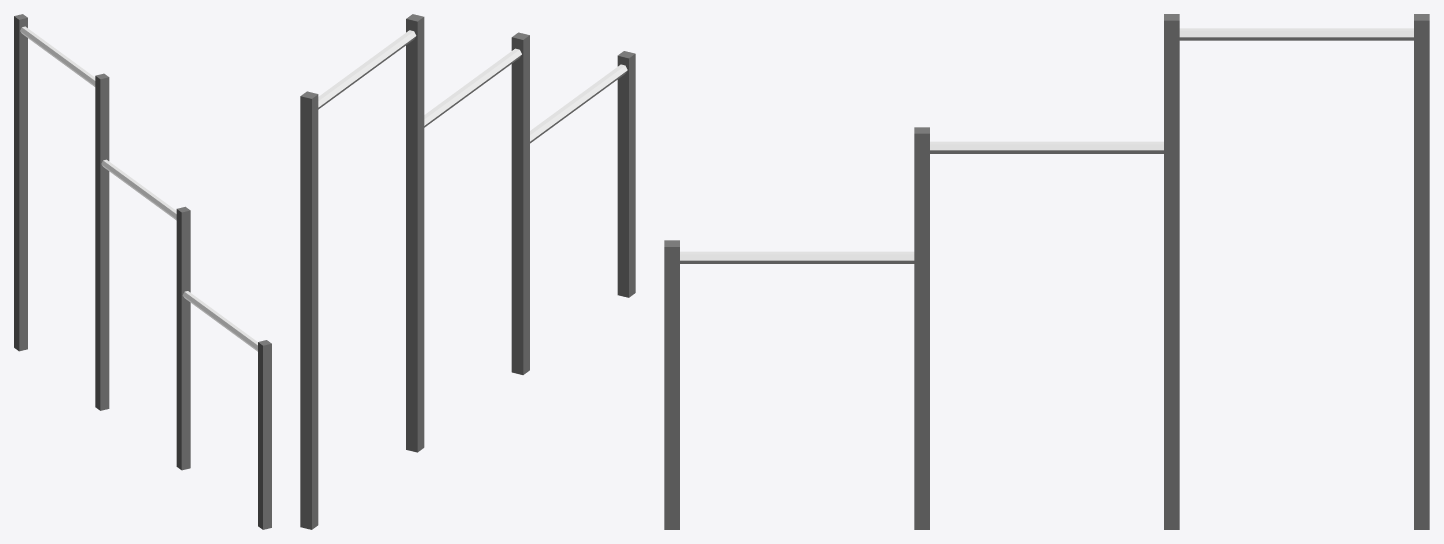
File: pull bars.fbx
3 renders of one model, left to right at view 1: azimuth 30°, elevation 25°; view 2: azimuth 150°, elevation 25°; view 3: azimuth 270°, elevation 25°, orthographic. The views are drawn at different scales.
Parts seen in each view (by area): view 1: pull_bar; view 2: pull_bar; view 3: pull_bar.
Boxes of the visible parts, x1,y1,x2,y2 form: pull_bar: (14, 14, 271, 529); pull_bar: (300, 14, 635, 529); pull_bar: (664, 14, 1429, 529).
Bounding box in the file's own units: 5 × 180 × 245.
1 material, 1 textured.
